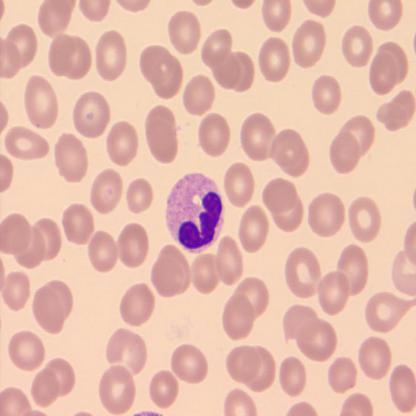Segmented neutrophil: (164, 170, 226, 257)
